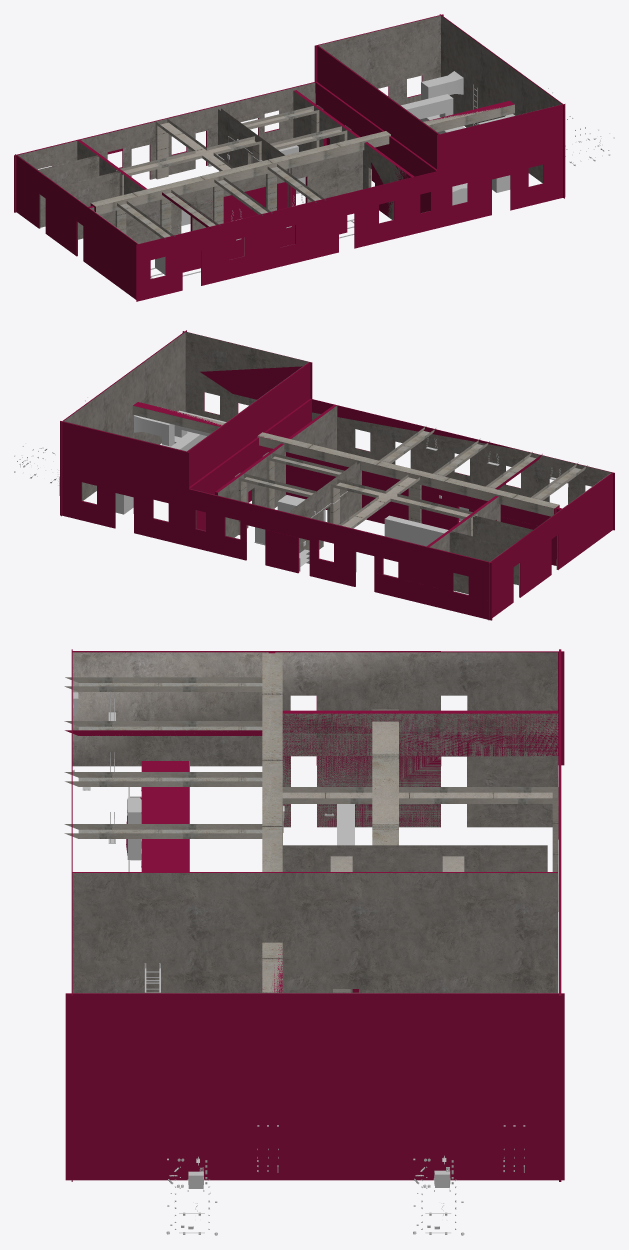
File: inner.DAE
The picture shows the model from 3 angles, top to bottom: view 1: azimuth 30°, elevation 25°; view 2: azimuth 150°, elevation 25°; view 3: azimuth 270°, elevation 25°; orthographic projection. The views are drawn at different scales.
Visible parts, largest first — view 1: SS204_obj204, SS204-ch046, SS197_obj197, SS204-ch059, SS204-ch010, SS204-ch007, SS130_obj130, SS204-ch041, SS204-ch042, SS204-ch026, SS133_obj133, SS204-ch006 (+26 smaller); view 2: SS204_obj204, SS204-ch050, SS197_obj197, SS204-ch061, SS204-ch010, SS204-ch007, SS130_obj130, SS204-ch026, SS204-ch003, SS204-ch051, SS204-ch046, SS204-ch024 (+27 smaller); view 3: SS204_obj204, SS204-ch062, SS204-ch020, SS130_obj130, SS202-ins1_obj202, SS197_obj197, SS131-ch002, SS204-ch021, SS194-ins2_obj194, SS194-ins3_obj194, SS194-ins1_obj194, SS194_ (+3 smaller).
Boxes of the visible parts, <box> form: SS204_obj204: <box>18,15,561,277</box>; SS204-ch046: <box>136,140,565,263</box>; SS197_obj197: <box>91,104,514,214</box>; SS204-ch059: <box>437,104,565,171</box>; SS204-ch010: <box>317,45,439,169</box>; SS204-ch007: <box>83,204,137,299</box>; SS130_obj130: <box>116,119,261,195</box>; SS204-ch041: <box>354,196,491,248</box>; SS204-ch042: <box>201,233,338,285</box>; SS204-ch026: <box>315,82,436,176</box>; SS133_obj133: <box>401,71,514,192</box>; SS204-ch006: <box>45,176,77,256</box>; SS204_obj204: <box>63,332,611,597</box>; SS204-ch050: <box>60,458,492,581</box>; SS197_obj197: <box>132,405,559,516</box>; SS204-ch061: <box>60,421,189,489</box>; SS204-ch010: <box>187,362,310,486</box>; SS204-ch007: <box>557,472,612,569</box>; SS130_obj130: <box>330,475,477,536</box>; SS204-ch026: <box>189,398,311,493</box>; SS204-ch003: <box>374,573,492,620</box>; SS204-ch051: <box>134,514,246,560</box>; SS204-ch046: <box>200,372,614,491</box>; SS204-ch024: <box>286,452,562,525</box>; SS204_obj204: <box>72,652,558,993</box>; SS204-ch062: <box>65,993,564,1180</box>; SS204-ch020: <box>282,710,558,756</box>; SS130_obj130: <box>282,709,558,911</box>; SS202-ins1_obj202: <box>282,845,547,871</box>; SS197_obj197: <box>262,653,282,992</box>; SS131-ch002: <box>141,761,189,871</box>; SS204-ch021: <box>317,756,440,827</box>; SS194-ins2_obj194: <box>64,677,262,691</box>; SS194-ins3_obj194: <box>64,824,262,838</box>; SS194-ins1_obj194: <box>64,772,262,786</box>; SS194_: <box>65,721,262,735</box>.
Size of what is drawn, in the model's own units: 350 by 151 by 62.49.
